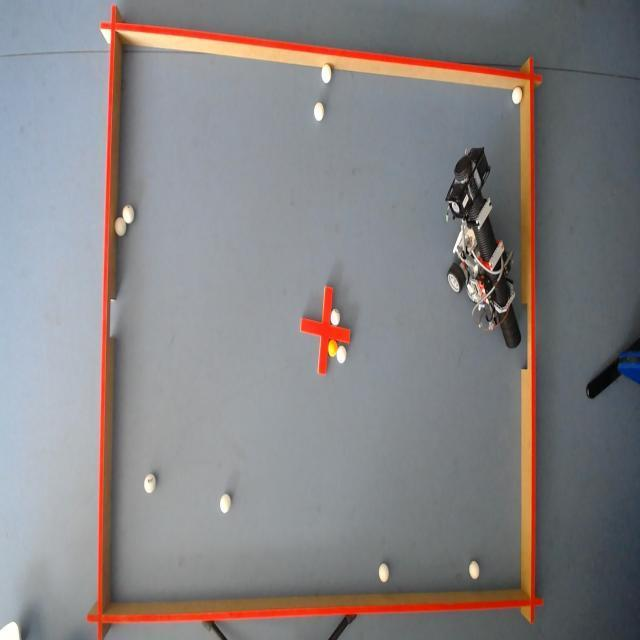orange: (328, 337, 338, 357)
robot: (444, 144, 522, 346)
white: (331, 342, 346, 362), (120, 202, 134, 222), (376, 562, 388, 584), (312, 100, 324, 122), (220, 494, 232, 514), (142, 474, 154, 493), (511, 86, 522, 106), (115, 216, 126, 236), (318, 63, 329, 82), (331, 306, 340, 326), (470, 562, 480, 580)
